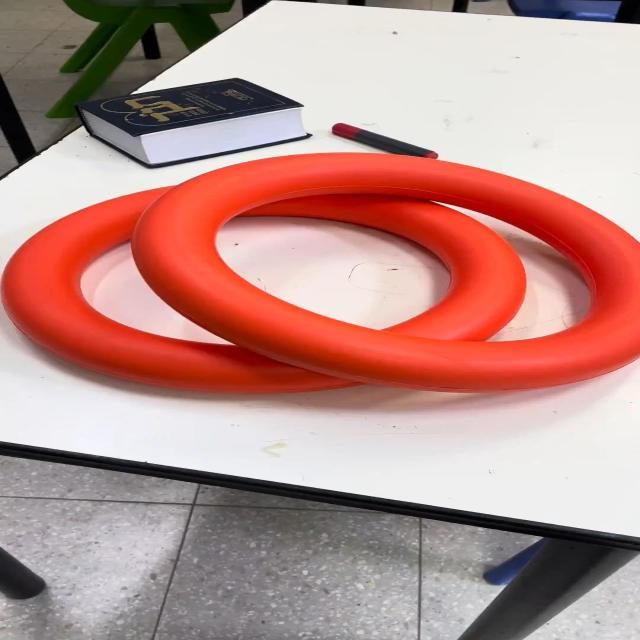note: (3, 151, 530, 397), (129, 152, 640, 395)
